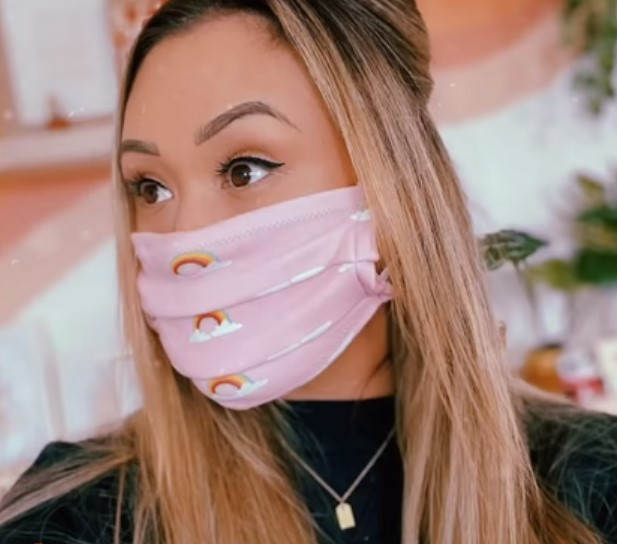face_with_mask: (110, 3, 424, 421)
